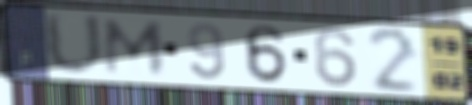2: (364, 25, 426, 95)
6: (240, 22, 290, 86), (310, 27, 359, 89)
9: (185, 20, 227, 82)
M: (102, 17, 168, 77)
U: (41, 9, 108, 79)
